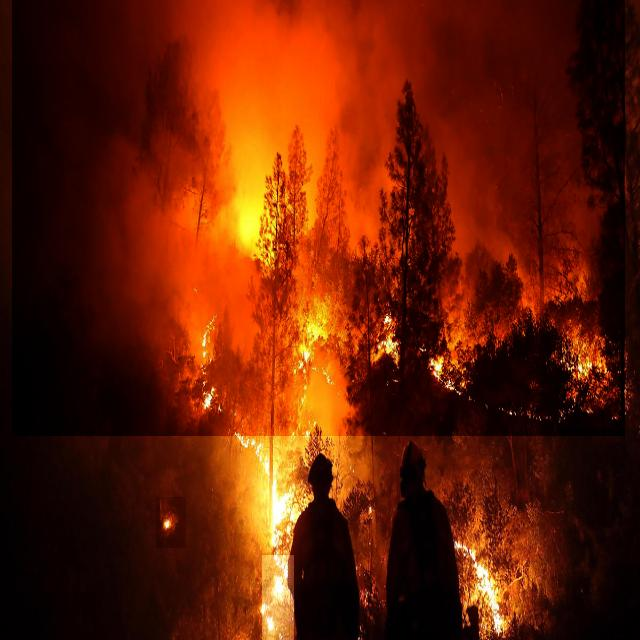Fire: (238, 418, 308, 534), (456, 531, 510, 636), (370, 294, 408, 383), (294, 329, 332, 406), (573, 337, 616, 401), (262, 555, 294, 640), (191, 314, 215, 425), (427, 347, 457, 412), (156, 497, 186, 548)
Smoke: (12, 0, 625, 436)
